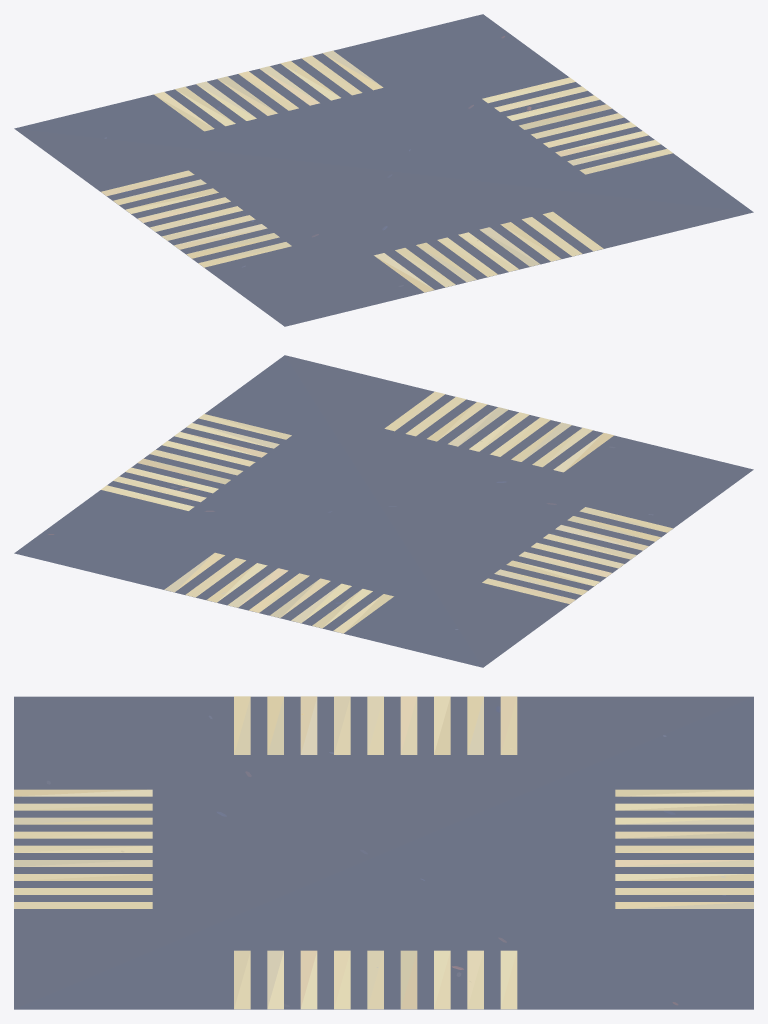
The model's file is HK_RoadSurf_Cross.lod.glb.
3 views of the same model, one above another, from view 1: azimuth 30°, elevation 25°; view 2: azimuth 150°, elevation 25°; view 3: azimuth 270°, elevation 25° (orthographic). The views are drawn at different scales.
Parts seen in each view (by area): view 1: HK_RoadSurf_Cross; view 2: HK_RoadSurf_Cross; view 3: HK_RoadSurf_Cross.
Part boxes in pixels (x1,y1,x2,y2): HK_RoadSurf_Cross: (14,14,753,326); HK_RoadSurf_Cross: (14,355,753,667); HK_RoadSurf_Cross: (14,696,753,1009).
Size of the model in its own units: 20 by 0.0144 by 20.
